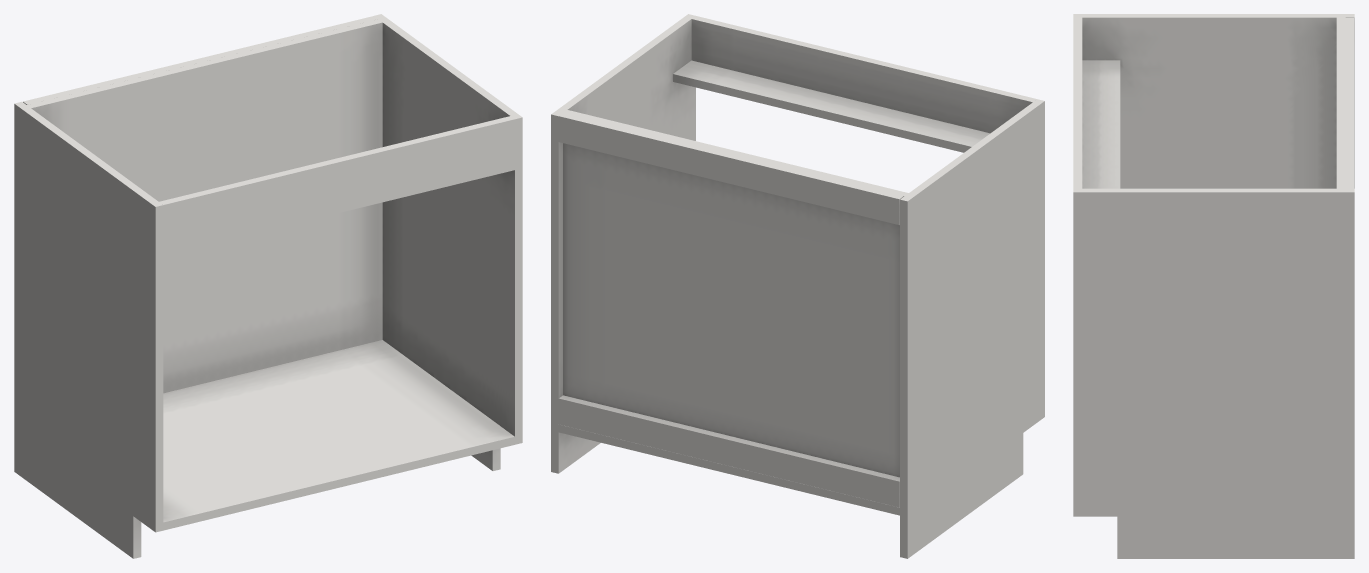
Rendered from sink-base-2-door-doors-off.glb.
3 renders of one model, left to right at view 1: azimuth 30°, elevation 25°; view 2: azimuth 150°, elevation 25°; view 3: azimuth 270°, elevation 25°, orthographic. The views are drawn at different scales.
Parts seen in each view (by area): view 1: part_0; view 2: part_0; view 3: part_0.
Part boxes in pixels (x1,y1,x2,y2): part_0: [14, 14, 522, 558]; part_0: [551, 14, 1044, 558]; part_0: [1073, 14, 1354, 558].
Bounding box in the file's own units: 0.9144 × 0.8763 × 0.6096.
1 material, 1 textured.
